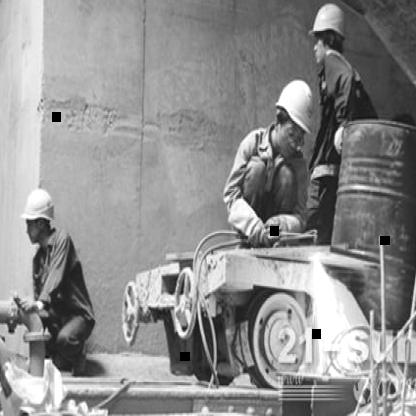helmet: (273, 74, 317, 137), (305, 0, 346, 44), (21, 184, 55, 228)
